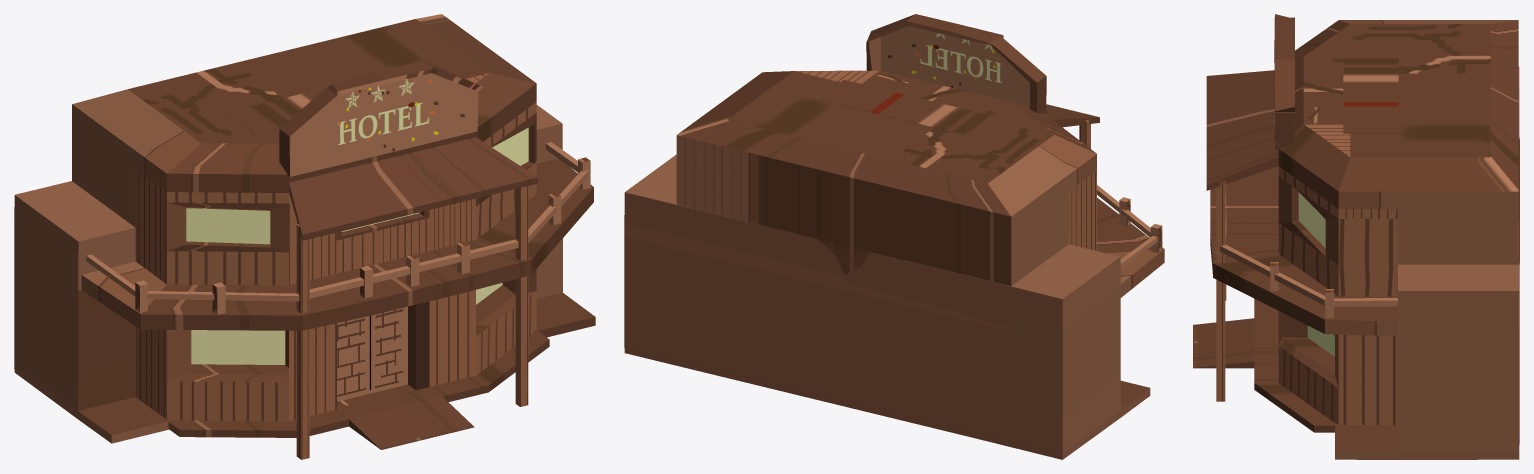
Rendered from Hotel.fbx.
3 renders of one model, left to right at view 1: azimuth 30°, elevation 25°; view 2: azimuth 150°, elevation 25°; view 3: azimuth 270°, elevation 25°, orthographic. The views are drawn at different scales.
Visible parts, largest first — view 1: Plane; view 2: Plane; view 3: Plane.
Boxes of the visible parts, x1,y1,x2,y2 form: Plane: (14,14,595,459); Plane: (624,14,1164,459); Plane: (1193,14,1519,459).
Bounding box in the file's own units: 2806 × 1825 × 1723.
